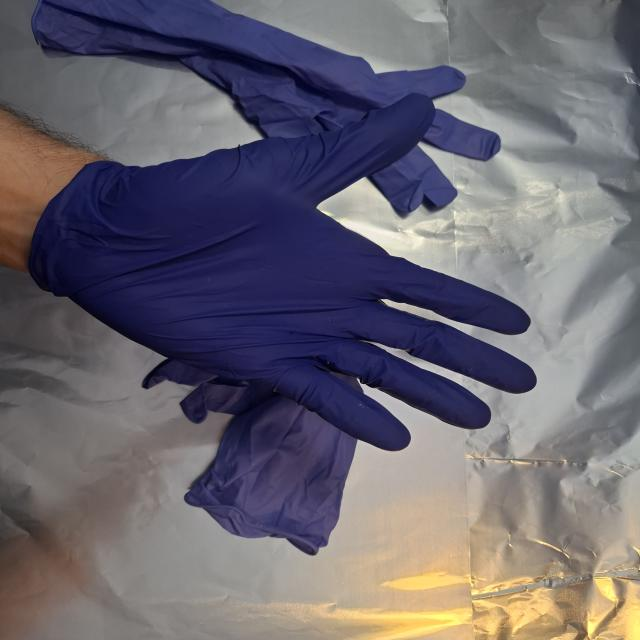glove_on: (29, 88, 544, 454)
